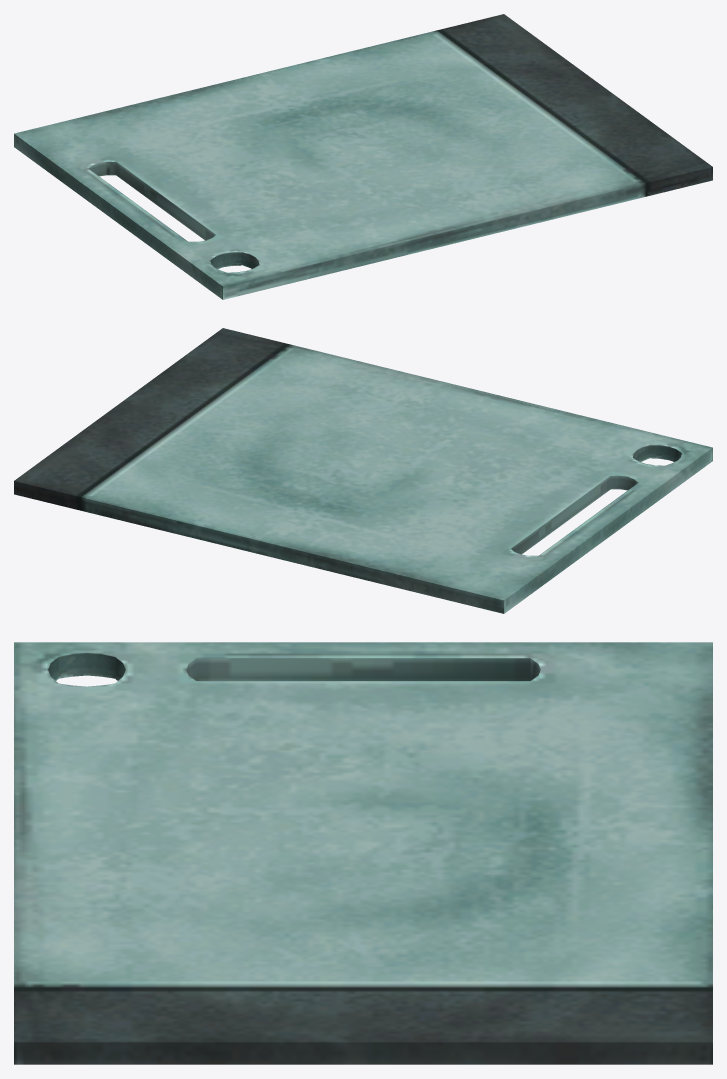
Rendered from dishes_plate.dae.
3 renders of one model, top to bottom at view 1: azimuth 30°, elevation 25°; view 2: azimuth 150°, elevation 25°; view 3: azimuth 270°, elevation 25°, orthographic. The views are drawn at different scales.
Visible parts, largest first — view 1: dishes_plate; view 2: dishes_plate; view 3: dishes_plate.
Boxes of the visible parts, box(x1,y1,x2,y2) form: dishes_plate: box(14, 14, 712, 299); dishes_plate: box(14, 328, 712, 613); dishes_plate: box(14, 642, 712, 1064).
Size of the model in its own units: 0.2995 by 0.00788 by 0.2212.
